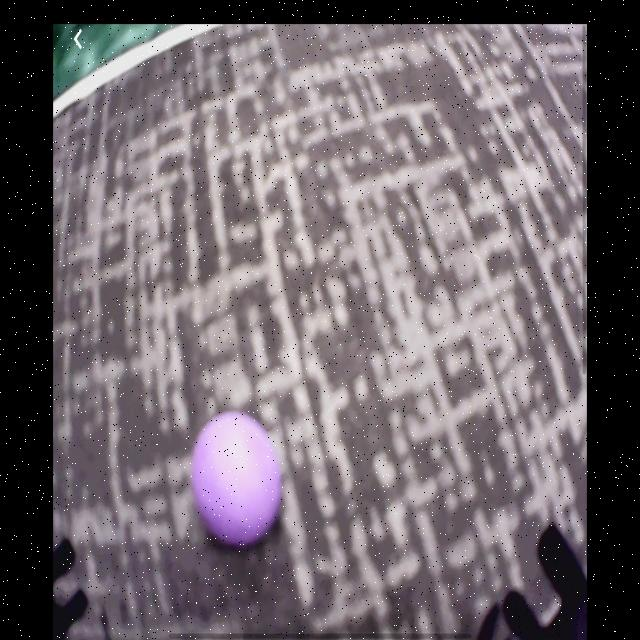ball: (192, 411, 285, 550)
